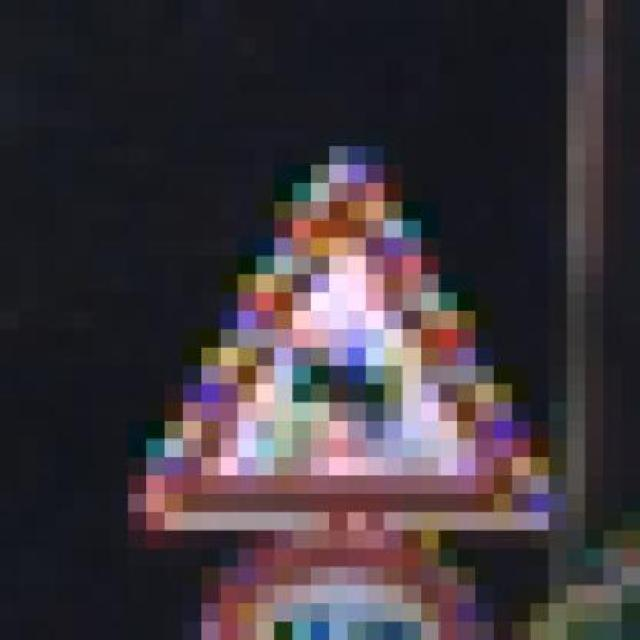Slippery Road Ahead: (128, 128, 568, 549)
